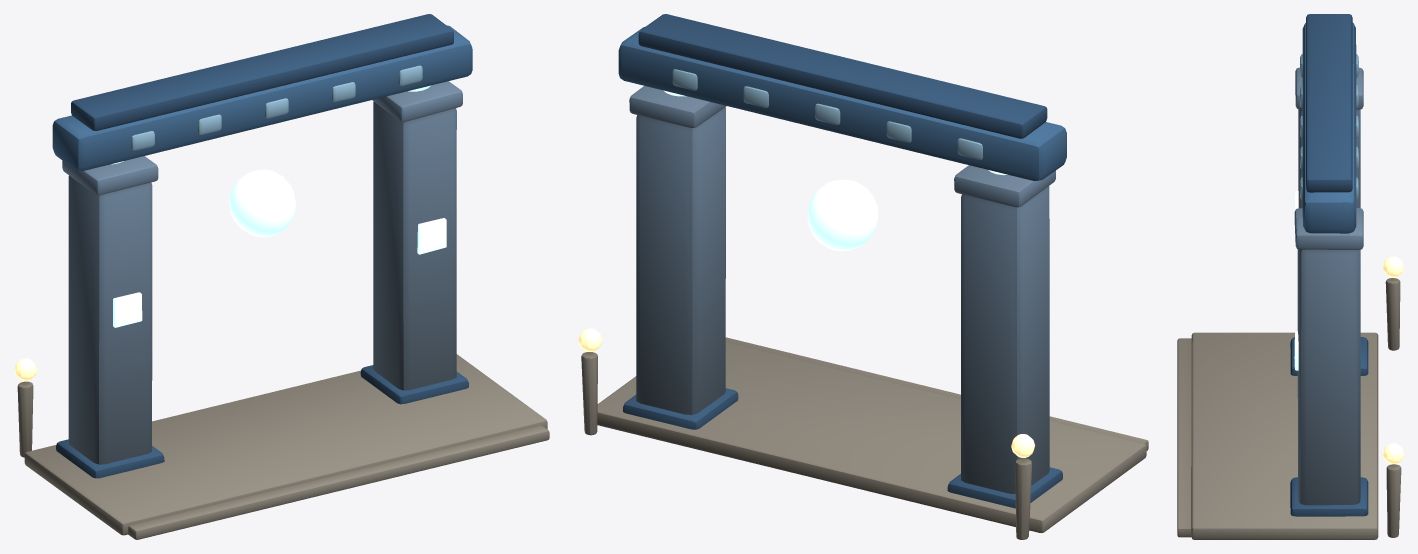
The picture shows the model from 3 angles, left to right: view 1: azimuth 30°, elevation 25°; view 2: azimuth 150°, elevation 25°; view 3: azimuth 270°, elevation 25°; orthographic projection. The views are drawn at different scales.
Visible parts, largest first — view 1: gate_d282f666; view 2: gate_d282f666; view 3: gate_d282f666.
Boxes of the visible parts, box(x1,y1,x2,y2) form: gate_d282f666: box(14, 14, 549, 539); gate_d282f666: box(578, 14, 1148, 539); gate_d282f666: box(1177, 14, 1403, 539).
Size of the model in its own units: 5.23 by 4.31 by 2.55.
